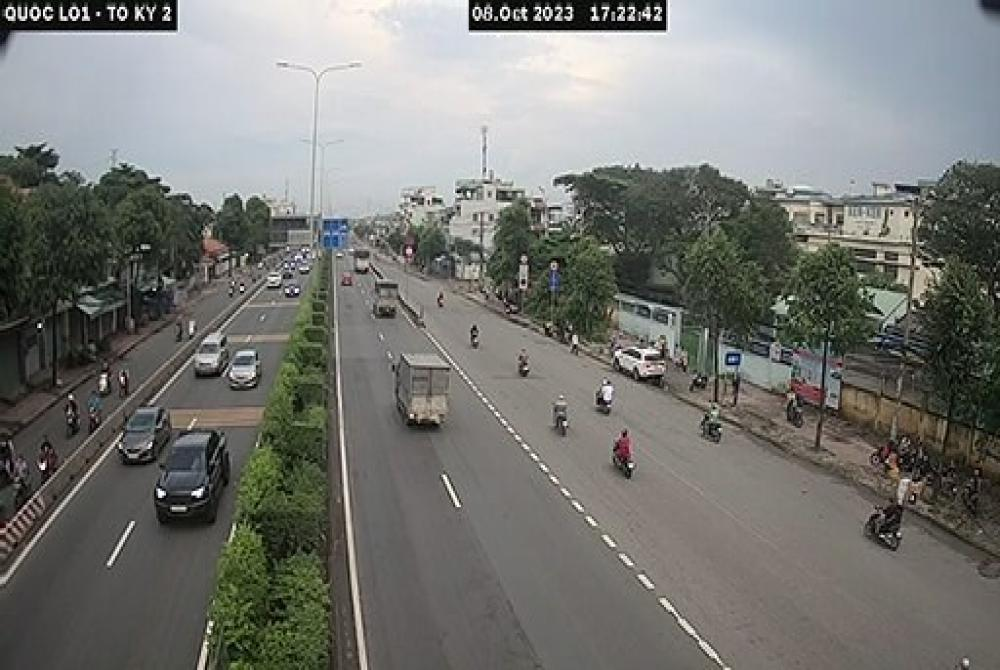car: (158, 422, 224, 522), (191, 326, 236, 384), (611, 343, 663, 392), (229, 342, 263, 396)
truck: (382, 331, 461, 451)
